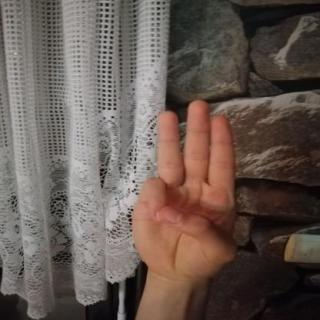THA: (121, 92, 247, 286)
